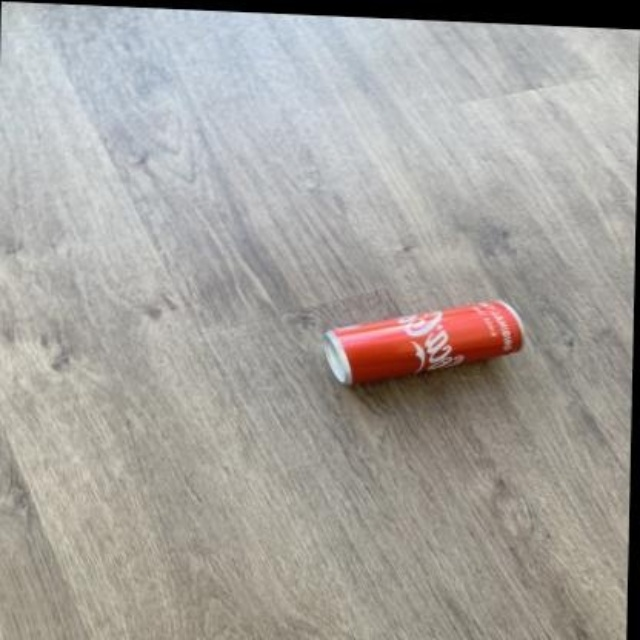trash: (323, 300, 522, 383)
